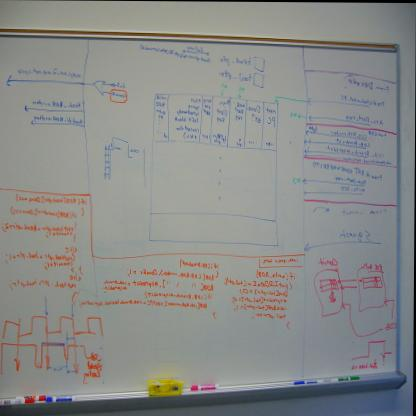Handwritten text: (340, 72, 393, 99), (338, 90, 391, 110), (340, 205, 391, 221), (339, 228, 373, 247), (343, 111, 385, 125), (235, 53, 251, 69), (238, 70, 256, 84), (249, 103, 262, 114), (266, 115, 276, 127), (265, 106, 277, 114)
Whiteboard: (0, 38, 400, 416)
